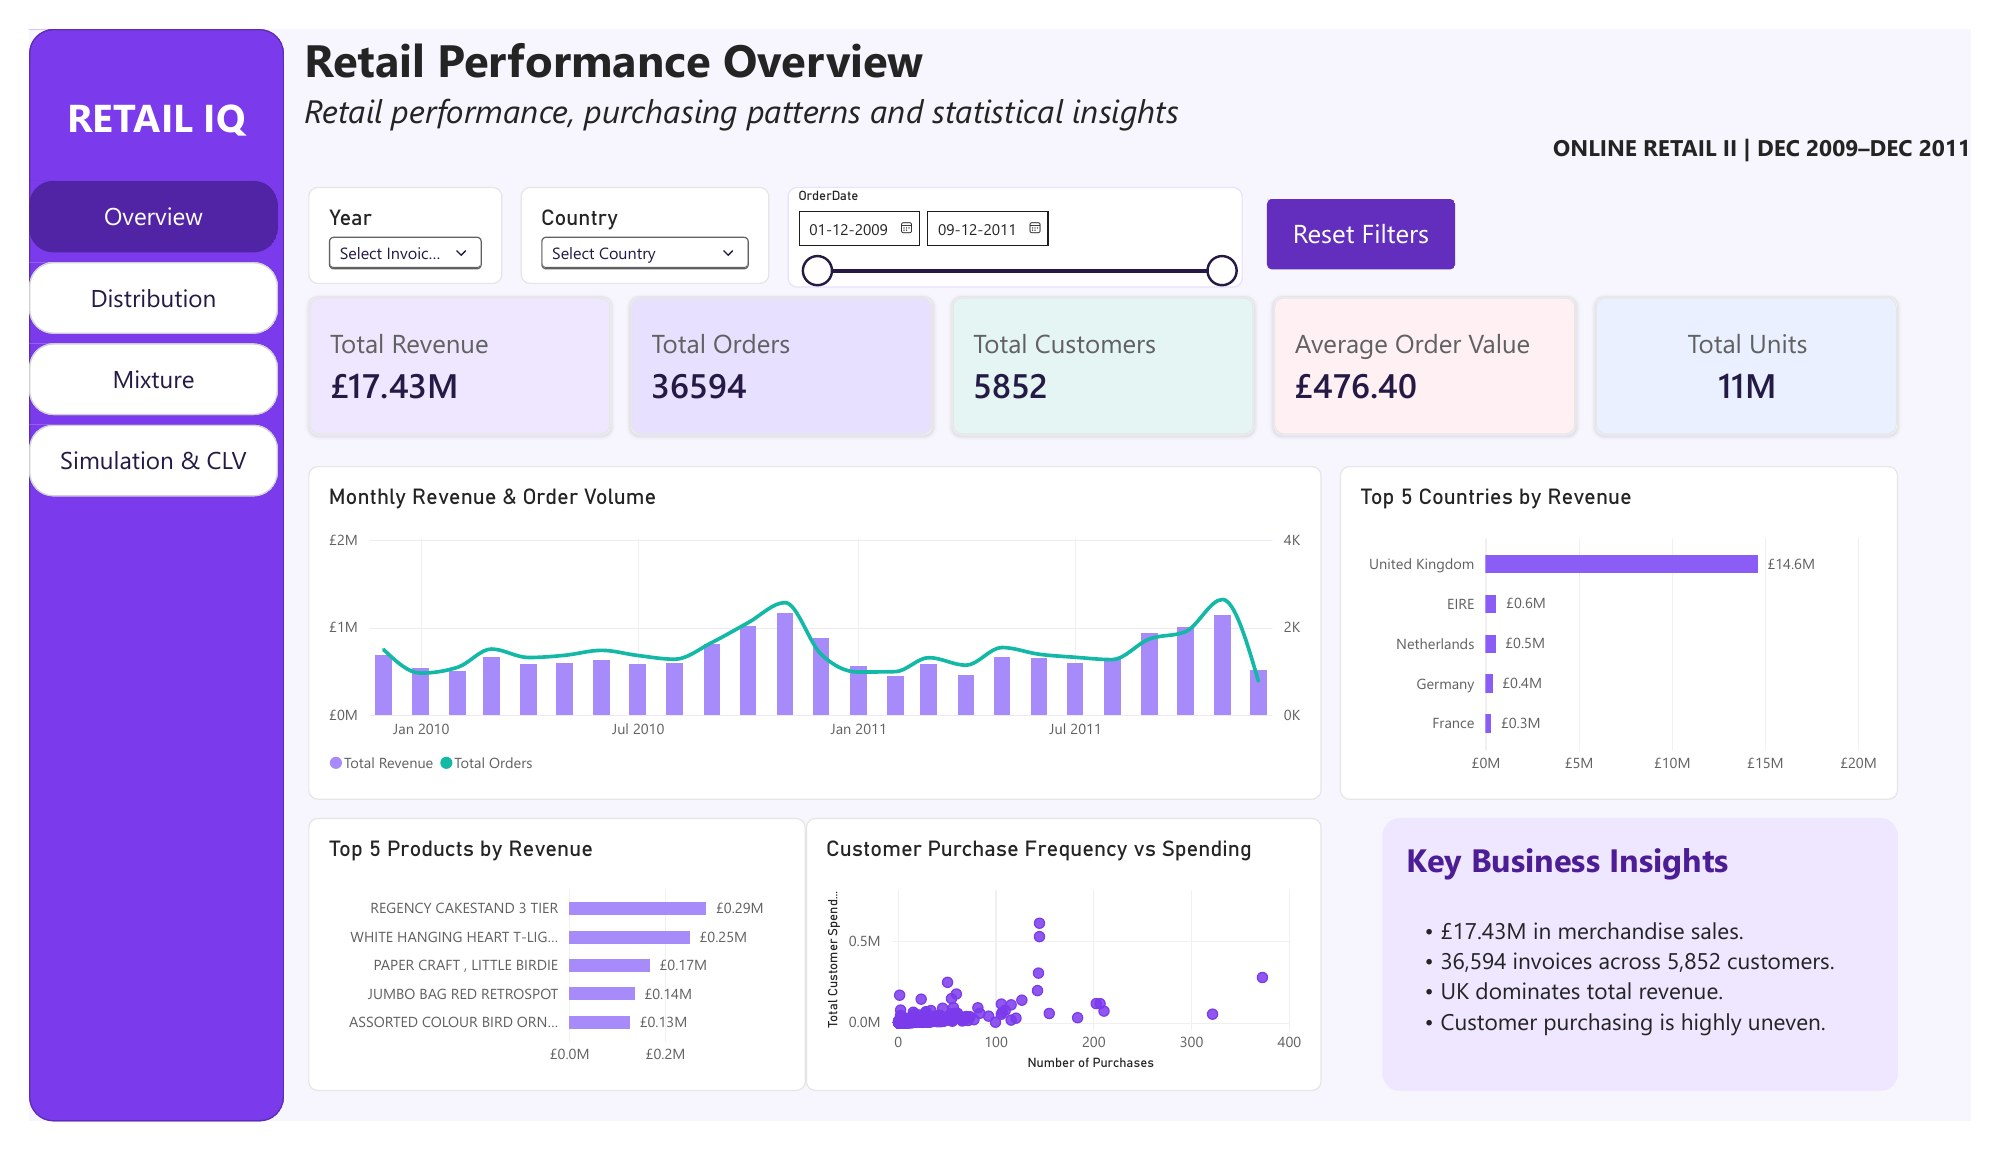

This screenshot's page, from the dashboard's own definition file:
{"tool":"powerbi","page":{"name":"Overview","canvas":[1600,900],"ordinal":0},"visuals":[{"type":"shape","box":[1115,650,425,225],"z":0},{"type":"shape","box":[0,0,210,900],"z":1000},{"type":"textbox","box":[0,50,210,71],"z":2000},{"type":"pageNavigator","box":[0,125,205,263],"z":3000},{"type":"textbox","box":[226.6,0,1373.4,110],"z":4000},{"type":"cardVisual","fields":{"Data":["Transactions.Total Revenue"]},"box":[230,220,250,115],"z":5000},{"type":"cardVisual","fields":{"Data":["Transactions.Total Orders"]},"box":[495,220,250,115],"z":6000},{"type":"cardVisual","fields":{"Data":["Transactions.Total Customers"]},"box":[760,220,250,115],"z":7000},{"type":"cardVisual","fields":{"Data":["Transactions.Average Order Value"]},"box":[1025,220,250,115],"z":8000},{"type":"cardVisual","fields":{"Data":["Transactions.Total Units"]},"box":[1290,220,250,115],"z":9000},{"type":"listSlicer","title":"Year","fields":{"Values":["Transactions.InvoiceYear"]},"box":[230,130,160,80],"z":10000},{"type":"listSlicer","title":"Country","fields":{"Values":["Transactions.Country"]},"box":[405,130,205,80],"z":11000},{"type":"actionButton","title":"Reset","box":[1020,140,155,58],"z":12000},{"type":"lineClusteredColumnComboChart","title":"Monthly Revenue & Order Volume","fields":{"Category":["Transactions.MonthStart"],"Y":["Transactions.Total Revenue"],"Y2":["Transactions.Total Orders"]},"box":[230,360,835,275],"z":13000},{"type":"clusteredBarChart","title":"Top 5 Countries by Revenue","fields":{"Category":["Transactions.Country"],"Y":["Transactions.Total Revenue"]},"box":[1080,360,460,275],"z":14000},{"type":"clusteredBarChart","title":"Top 5 Products by Revenue","fields":{"Category":["Transactions.Description"],"Y":["Transactions.Total Revenue"]},"box":[230,650,410,225],"z":15000},{"type":"scatterChart","title":"Customer Purchase Frequency vs Spending","fields":{"Category":["Customers.CustomerID"],"X":["Sum(Customers.ObservedPurchaseCount)"],"Y":["Sum(Customers.TotalSpending)"]},"box":[640,650,425,225],"z":16000},{"type":"textbox","box":[1135,666,380,45],"z":17000},{"type":"textbox","box":[1135.2,730,375,122.1],"z":18000},{"type":"slicer","fields":{"Values":["Transactions.OrderDate"]},"box":[625,130,375,83],"z":18001}]}

Visuals, with their boxes in screenshot pixels (x1, y1, x2, y2), scaled from the page's 1600x900 canvas onto the 2000x1151 screenshot:
shape: BBox(1394, 831, 1925, 1119)
shape: BBox(0, 0, 262, 1150)
textbox: BBox(0, 64, 262, 155)
pageNavigator: BBox(0, 160, 256, 496)
textbox: BBox(283, 0, 1999, 141)
cardVisual - Transactions.Total Revenue: BBox(288, 281, 600, 428)
cardVisual - Transactions.Total Orders: BBox(619, 281, 931, 428)
cardVisual - Transactions.Total Customers: BBox(950, 281, 1262, 428)
cardVisual - Transactions.Average Order Value: BBox(1281, 281, 1594, 428)
cardVisual - Transactions.Total Units: BBox(1612, 281, 1925, 428)
"Year" listSlicer: BBox(288, 166, 488, 269)
"Country" listSlicer: BBox(506, 166, 762, 269)
"Reset" actionButton: BBox(1275, 179, 1469, 253)
"Monthly Revenue & Order Volume" lineClusteredColumnComboChart: BBox(288, 460, 1331, 812)
"Top 5 Countries by Revenue" clusteredBarChart: BBox(1350, 460, 1925, 812)
"Top 5 Products by Revenue" clusteredBarChart: BBox(288, 831, 800, 1119)
"Customer Purchase Frequency vs Spending" scatterChart: BBox(800, 831, 1331, 1119)
textbox: BBox(1419, 852, 1894, 909)
textbox: BBox(1419, 934, 1888, 1090)
slicer - Transactions.OrderDate: BBox(781, 166, 1250, 272)
